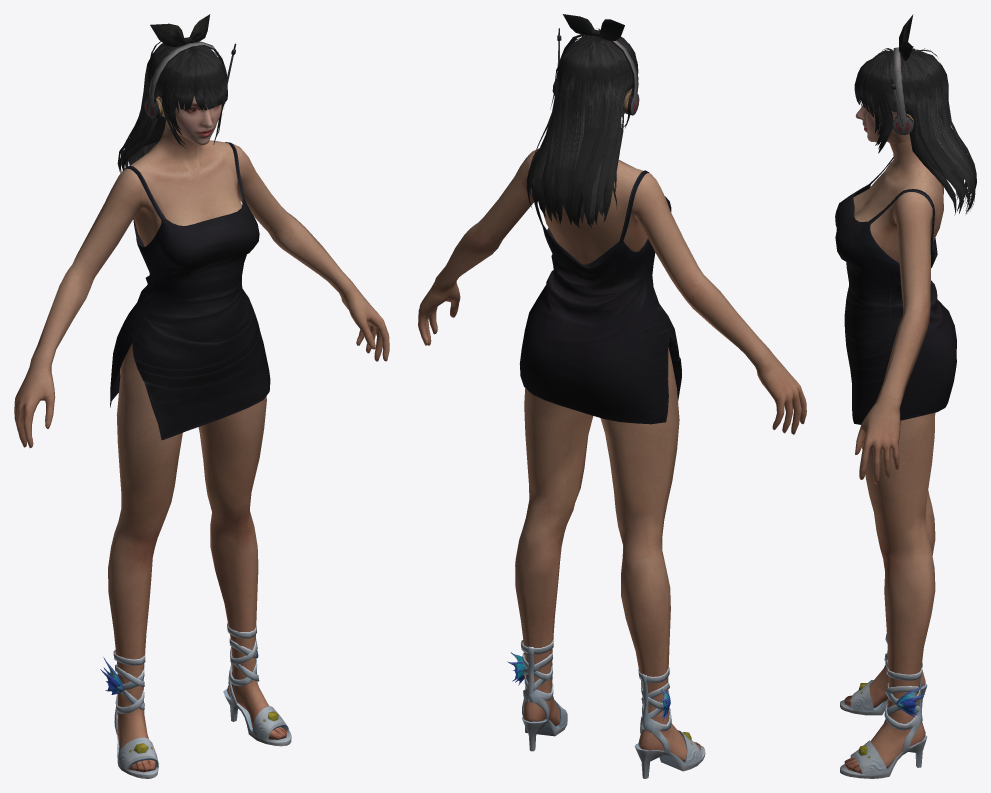
The model's file is fffemale 11.obj.
3 views of the same model, side by side, from view 1: azimuth 30°, elevation 25°; view 2: azimuth 150°, elevation 25°; view 3: azimuth 270°, elevation 25° (orthographic). The views are drawn at different scales.
Parts seen in each view (by area): view 1: body, top, head, hair, shoes, accs; view 2: body, top, head, hair, shoes, accs; view 3: body, head, top, hair, shoes, accs.
Boxes of the visible parts, x1,y1,x2,y2 form: body: [108, 343, 286, 772]; top: [110, 142, 270, 440]; head: [14, 96, 389, 447]; hair: [117, 37, 227, 173]; shoes: [100, 623, 291, 778]; accs: [144, 14, 236, 119]; body: [515, 347, 700, 761]; top: [519, 148, 681, 424]; head: [418, 80, 806, 434]; hair: [526, 28, 638, 228]; shoes: [507, 638, 705, 778]; accs: [552, 14, 639, 115]; body: [844, 413, 935, 773]; head: [853, 71, 943, 484]; top: [835, 157, 956, 424]; hair: [854, 46, 976, 215]; shoes: [840, 633, 927, 778]; accs: [890, 14, 913, 134].
Size of the model in its own units: 4.48 by 8.39 by 1.52.
Materials: 7 (7 with a texture image).
